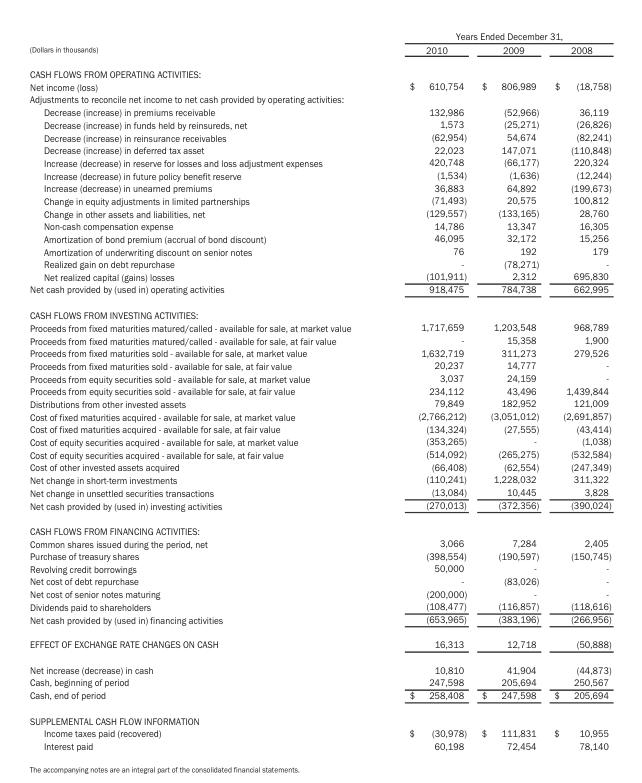table: (28, 29, 610, 752)
table column: (28, 29, 379, 752), (379, 29, 473, 752), (473, 29, 545, 752), (545, 29, 610, 752)
table column header: (28, 29, 610, 61)
table projected row header: (28, 61, 610, 80), (28, 302, 610, 321), (28, 707, 610, 726), (28, 518, 610, 536), (28, 93, 610, 105)
table row: (28, 631, 610, 656), (28, 498, 610, 518), (28, 656, 610, 676), (28, 42, 610, 61), (28, 61, 610, 80), (28, 283, 610, 302), (28, 302, 610, 321), (28, 612, 610, 631), (28, 688, 610, 707), (28, 707, 610, 726), (28, 518, 610, 536), (28, 29, 610, 42), (28, 80, 610, 93), (28, 105, 610, 118), (28, 130, 610, 143), (28, 143, 610, 156), (28, 168, 610, 181), (28, 181, 610, 194), (28, 206, 610, 219), (28, 219, 610, 232), (28, 244, 610, 257), (28, 257, 610, 270), (28, 270, 610, 283), (28, 333, 610, 346), (28, 346, 610, 359), (28, 371, 610, 384), (28, 384, 610, 397), (28, 409, 610, 422), (28, 422, 610, 435), (28, 447, 610, 460), (28, 460, 610, 473), (28, 473, 610, 486), (28, 536, 610, 549), (28, 549, 610, 562), (28, 574, 610, 587), (28, 599, 610, 612), (28, 726, 610, 739), (28, 739, 610, 752), (28, 93, 610, 105), (28, 118, 610, 130), (28, 156, 610, 168), (28, 194, 610, 206), (28, 232, 610, 244), (28, 321, 610, 333), (28, 359, 610, 371), (28, 397, 610, 409), (28, 435, 610, 447), (28, 486, 610, 498), (28, 562, 610, 574), (28, 587, 610, 599), (28, 676, 610, 688)
table spanning cell: (28, 29, 379, 61), (379, 29, 610, 42)
